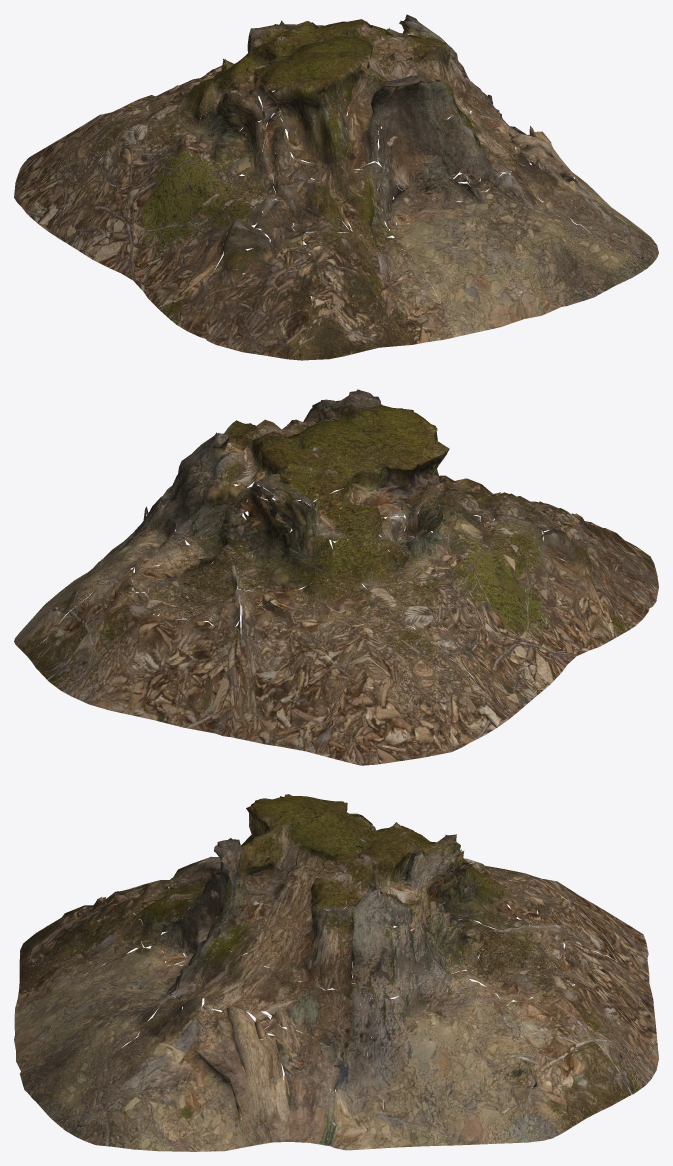
The model's file is kutuk.gltf.
3 renders of one model, top to bottom at view 1: azimuth 30°, elevation 25°; view 2: azimuth 150°, elevation 25°; view 3: azimuth 270°, elevation 25°, orthographic. The views are drawn at different scales.
Parts seen in each view (by area): view 1: kutuk; view 2: kutuk; view 3: kutuk.
Boxes of the visible parts, x1,y1,x2,y2 form: kutuk: (14, 14, 658, 360); kutuk: (14, 389, 658, 765); kutuk: (14, 794, 658, 1151).
Size of what is drawn, in the model's own units: 1.42 by 0.5722 by 1.59.
1 material, 1 textured.
